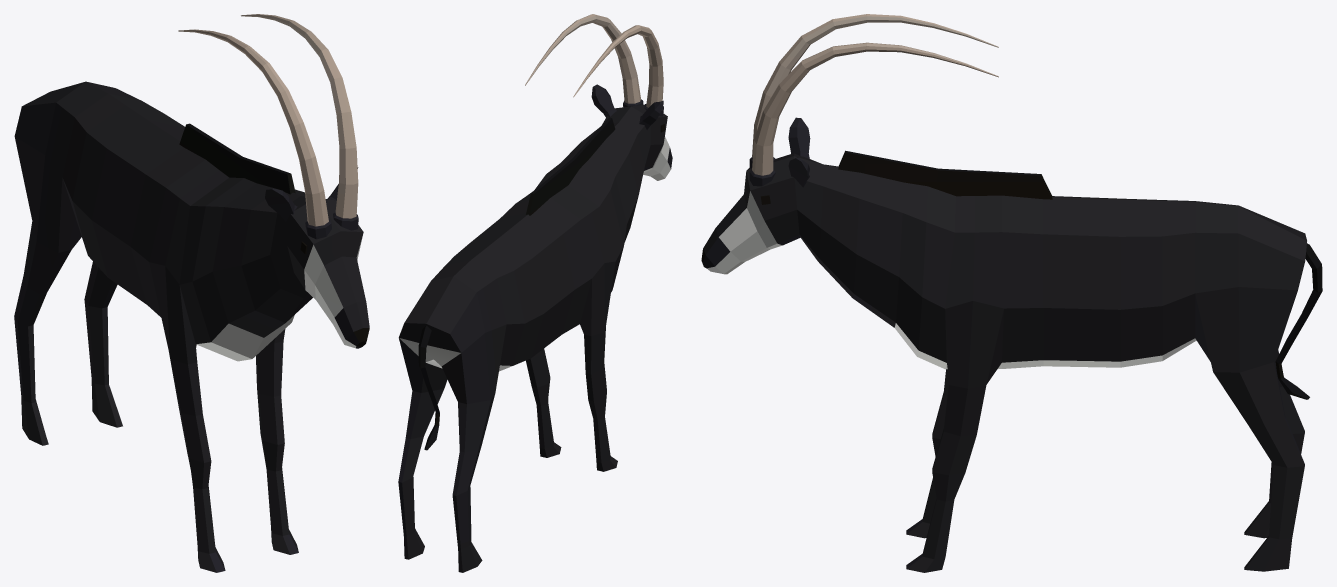
Rendered from prop_pz_antelope.glb.
3 views of the same model, side by side, from view 1: azimuth 30°, elevation 25°; view 2: azimuth 150°, elevation 25°; view 3: azimuth 270°, elevation 25° (orthographic). The views are drawn at different scales.
Visible parts, largest first — view 1: Geo_Antelope; view 2: Geo_Antelope; view 3: Geo_Antelope.
Boxes of the visible parts, box(x1,y1,x2,y2) form: Geo_Antelope: box(14, 14, 369, 572); Geo_Antelope: box(398, 14, 672, 572); Geo_Antelope: box(701, 14, 1322, 572).
Bounding box in the file's own units: 35.61 × 158 × 170.
1 material, 1 textured.
